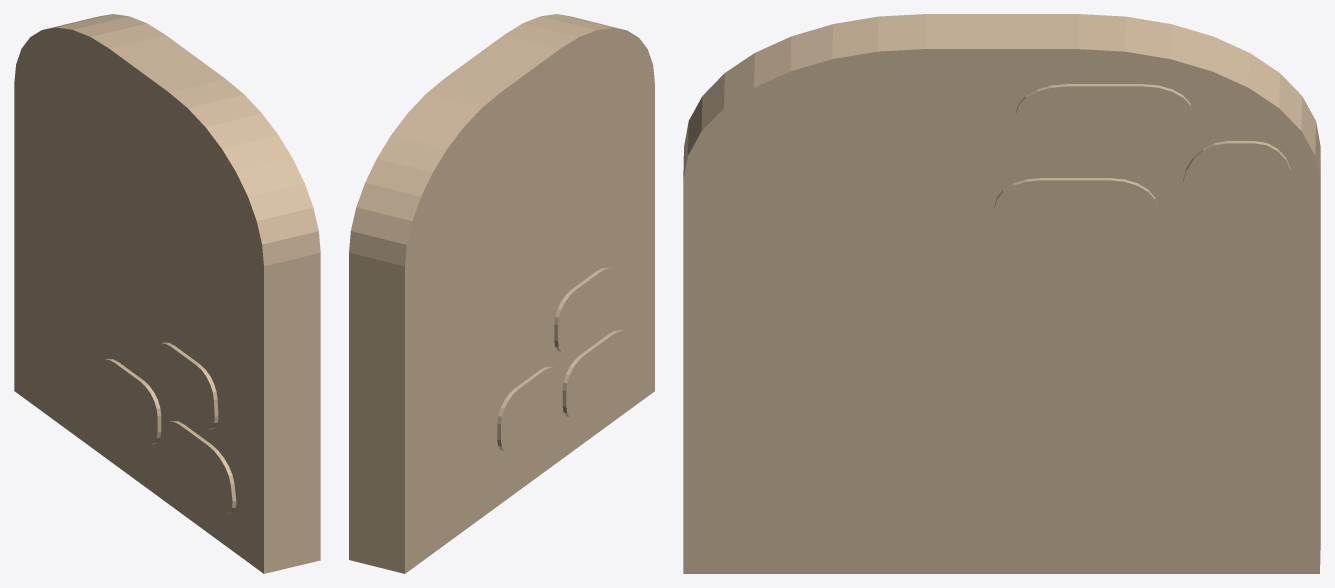
File: wall1.glb
The picture shows the model from 3 angles, left to right: view 1: azimuth 30°, elevation 25°; view 2: azimuth 150°, elevation 25°; view 3: azimuth 270°, elevation 25°; orthographic projection. The views are drawn at different scales.
Visible parts, largest first — view 1: wall 3; view 2: wall 3; view 3: wall 3.
Boxes of the visible parts, x1=… form: wall 3: x1=14, y1=14, x2=320, y2=573; wall 3: x1=349, y1=14, x2=654, y2=573; wall 3: x1=683, y1=14, x2=1320, y2=573.
Bounding box in the file's own units: 0.4495 × 2.5 × 2.75.
Materials: 1 (1 with a texture image).
